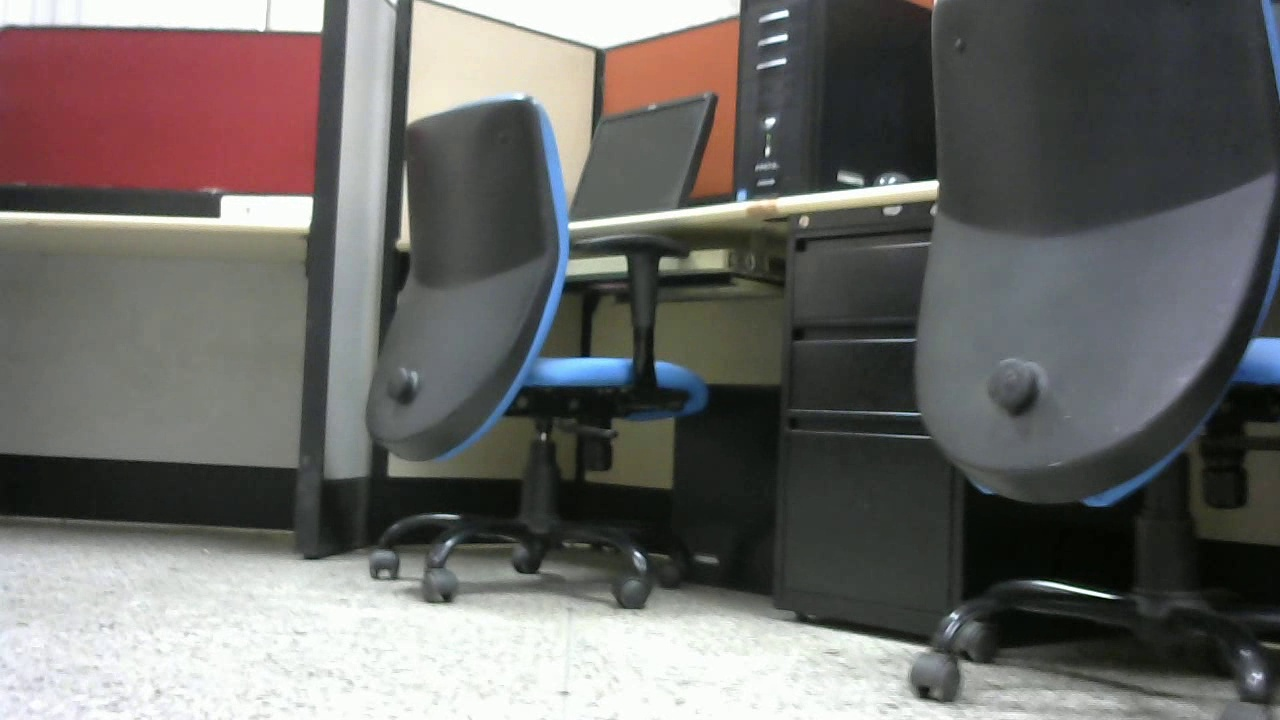chair: (358, 92, 715, 625)
